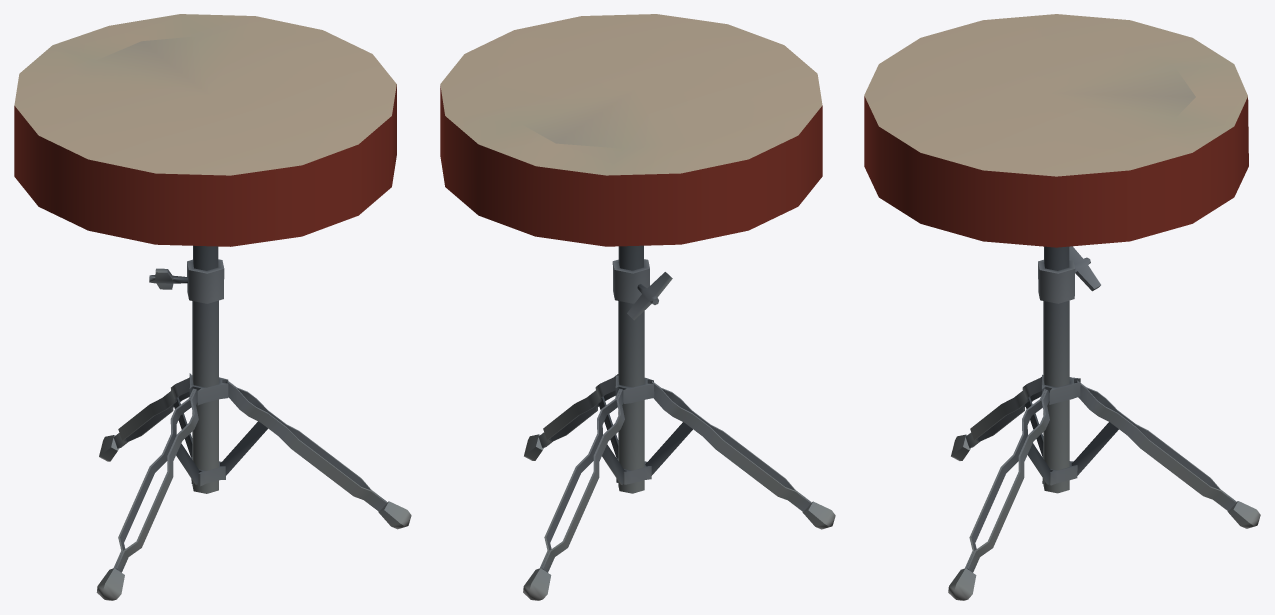
The model's file is human-music-snare-drum_v2.fbx.
3 renders of one model, left to right at view 1: azimuth 30°, elevation 25°; view 2: azimuth 150°, elevation 25°; view 3: azimuth 270°, elevation 25°, orthographic.
Visible parts, largest first — view 1: Snare Drum_v2; view 2: Snare Drum_v2; view 3: Snare Drum_v2.
Part boxes in pixels (box(x1,y1,x2,y2)): Snare Drum_v2: box(14, 14, 411, 600); Snare Drum_v2: box(440, 14, 835, 600); Snare Drum_v2: box(864, 14, 1260, 600).
Size of the model in its own units: 0.7179 by 0.9 by 0.7399.
